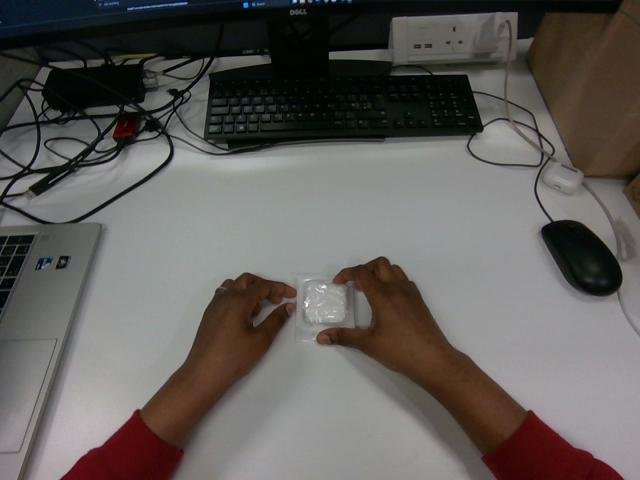gauze: (295, 275, 354, 341)
